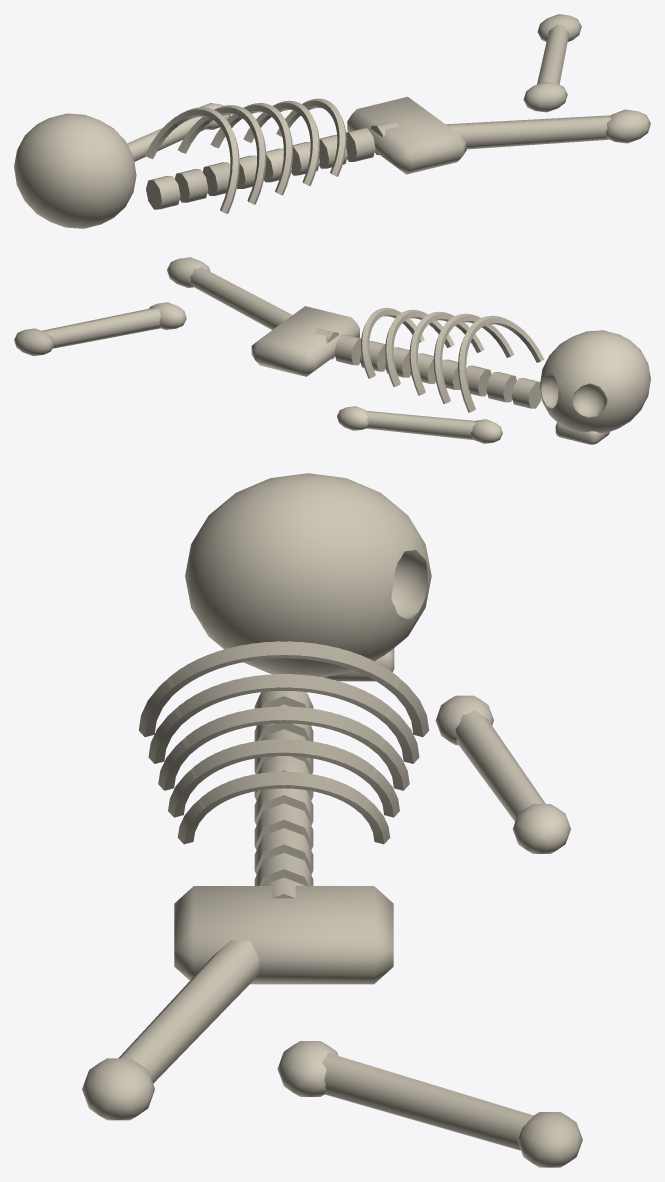
File: incomplete-skeleton-v01.glb
The picture shows the model from 3 angles, top to bottom: view 1: azimuth 30°, elevation 25°; view 2: azimuth 150°, elevation 25°; view 3: azimuth 270°, elevation 25°; orthographic projection. The views are drawn at different scales.
Visible parts, largest first — view 1: incomplete-skeleton; view 2: incomplete-skeleton; view 3: incomplete-skeleton.
Boxes of the visible parts, x1,y1,x2,y2 form: incomplete-skeleton: [14, 14, 650, 228]; incomplete-skeleton: [14, 257, 650, 444]; incomplete-skeleton: [82, 473, 582, 1167].
Size of the model in its own units: 2.68 by 0.429 by 1.03.
